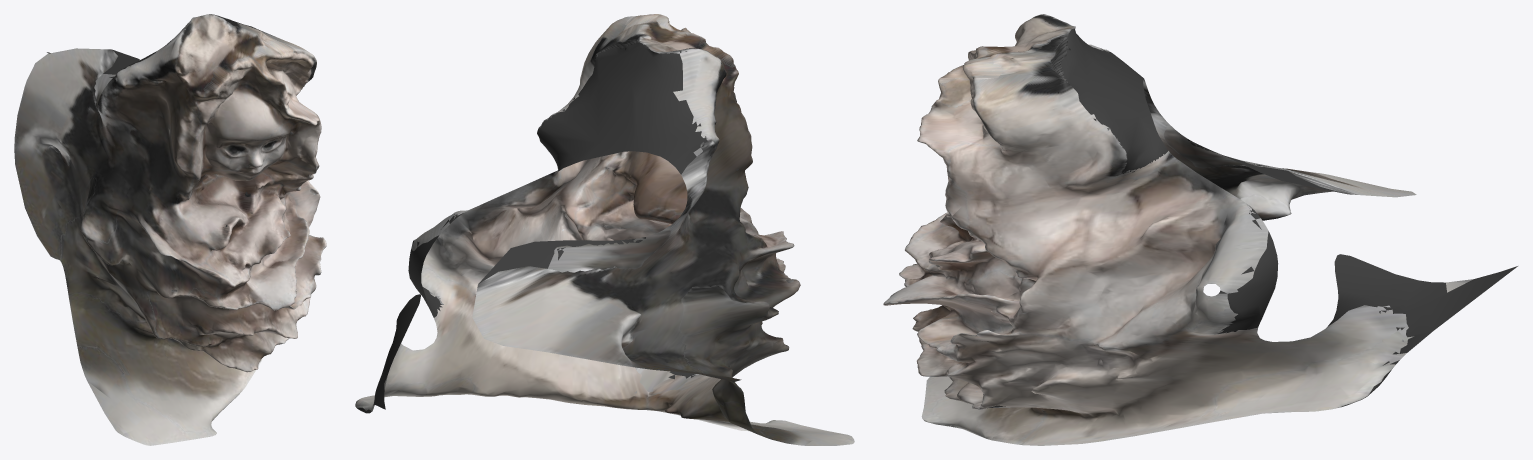
The model's file is pinkelEye.glb.
3 views of the same model, side by side, from view 1: azimuth 30°, elevation 25°; view 2: azimuth 150°, elevation 25°; view 3: azimuth 270°, elevation 25° (orthographic). The views are drawn at different scales.
Visible parts, largest first — view 1: pinkelEye4; view 2: pinkelEye4; view 3: pinkelEye4.
Boxes of the visible parts, bbox=[...] form: pinkelEye4: bbox=[14, 14, 326, 445]; pinkelEye4: bbox=[355, 14, 854, 445]; pinkelEye4: bbox=[883, 14, 1517, 445].
Bounding box in the file's own units: 15.62 × 19.71 × 26.81.
Materials: 1 (1 with a texture image).
